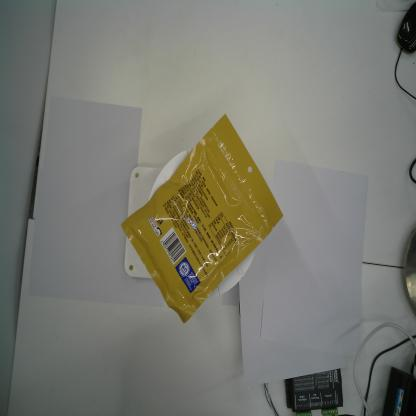Dried Fruit: (118, 113, 283, 324)
